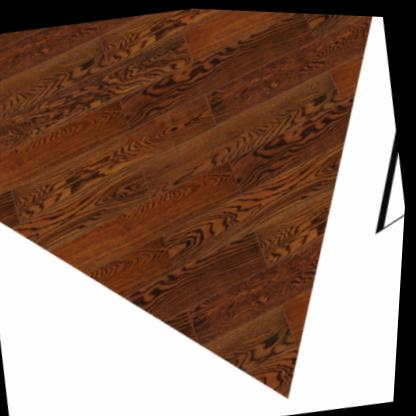Wooden floor: (0, 7, 371, 394)
